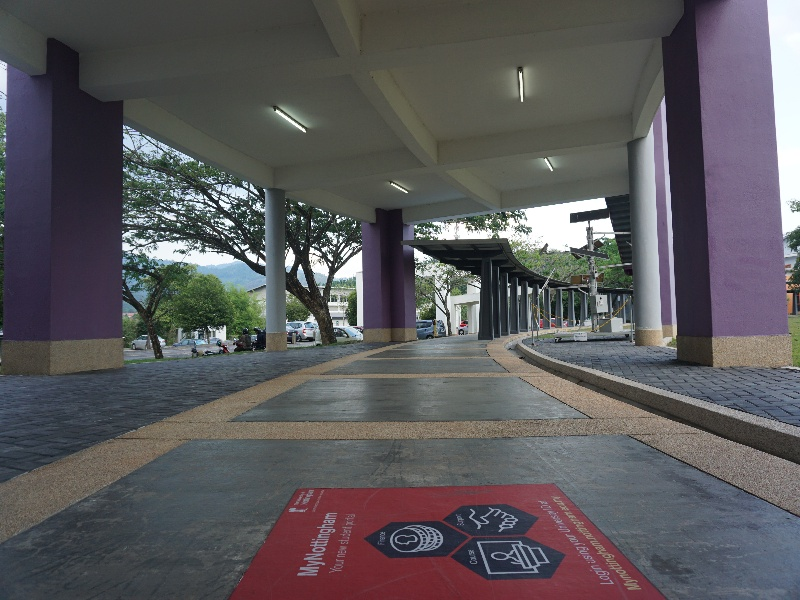Block D Pillar 4: (7, 7, 800, 468)
pillar: (649, 7, 795, 375), (3, 33, 126, 383), (359, 201, 427, 342), (258, 181, 294, 351), (475, 247, 499, 343)
